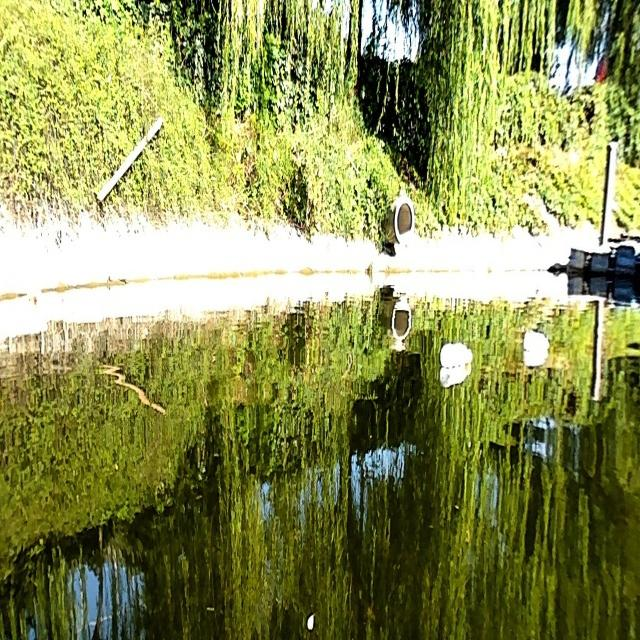bottle: (439, 341, 472, 364), (523, 327, 549, 351)
